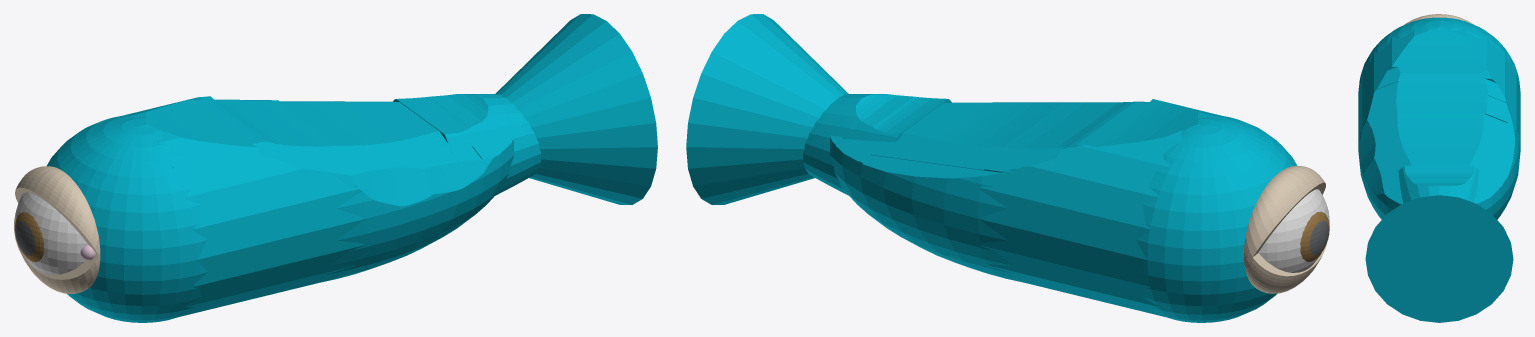
Rendered from asset.glb.
3 renders of one model, left to right at view 1: azimuth 30°, elevation 25°; view 2: azimuth 150°, elevation 25°; view 3: azimuth 270°, elevation 25°, orthographic. The views are drawn at different scales.
Parts seen in each view (by area): view 1: Mesh_Mesh_head_geo.001_lambert2SG.001; view 2: Mesh_Mesh_head_geo.001_lambert2SG.001; view 3: Mesh_Mesh_head_geo.001_lambert2SG.001.
Boxes of the visible parts, x1,y1,x2,y2 form: Mesh_Mesh_head_geo.001_lambert2SG.001: (14, 14, 657, 322); Mesh_Mesh_head_geo.001_lambert2SG.001: (686, 14, 1329, 322); Mesh_Mesh_head_geo.001_lambert2SG.001: (1358, 14, 1520, 322).
Size of the model in its own units: 69 by 21 by 23.
